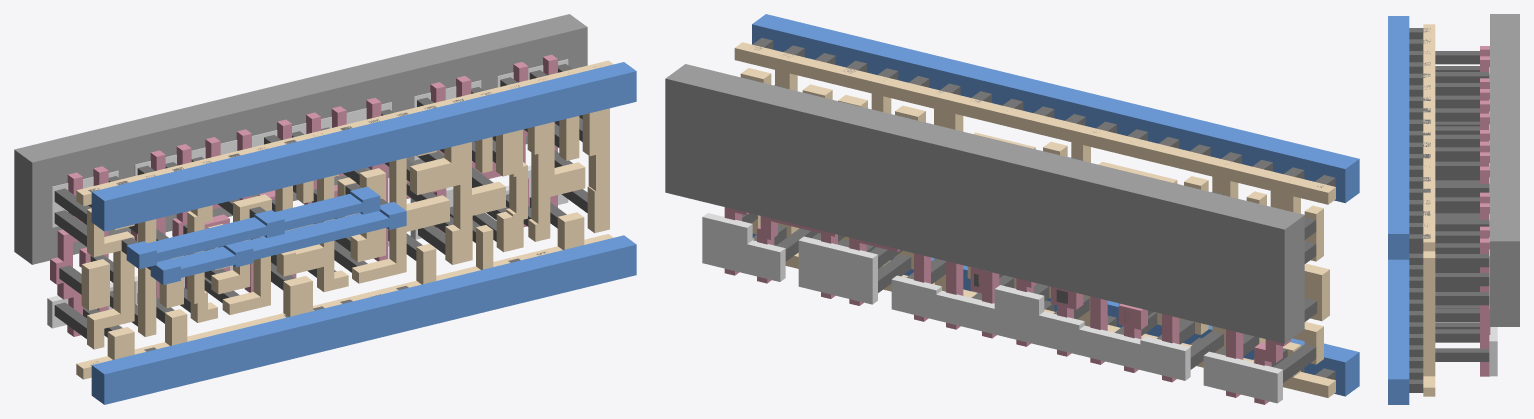
The model's file is sky130_fd_sc_hd__dfxbp_1.gds.gltf.
3 renders of one model, left to right at view 1: azimuth 30°, elevation 25°; view 2: azimuth 150°, elevation 25°; view 3: azimuth 270°, elevation 25°, orthographic. The views are drawn at different scales.
Parts seen in each view (by area): view 1: sky130_fd_sc_hd__dfxbp_1_met1, sky130_fd_sc_hd__dfxbp_1_li1, sky130_fd_sc_hd__dfxbp_1_nwell, sky130_fd_sc_hd__dfxbp_1_licon, sky130_fd_sc_hd__dfxbp_1_poly, sky130_fd_sc_hd__dfxbp_1_diff, sky130_fd_sc_hd__dfxbp_1_mcon; view 2: sky130_fd_sc_hd__dfxbp_1_nwell, sky130_fd_sc_hd__dfxbp_1_li1, sky130_fd_sc_hd__dfxbp_1_diff, sky130_fd_sc_hd__dfxbp_1_met1, sky130_fd_sc_hd__dfxbp_1_poly, sky130_fd_sc_hd__dfxbp_1_licon, sky130_fd_sc_hd__dfxbp_1_mcon; view 3: sky130_fd_sc_hd__dfxbp_1_licon, sky130_fd_sc_hd__dfxbp_1_nwell, sky130_fd_sc_hd__dfxbp_1_met1, sky130_fd_sc_hd__dfxbp_1_mcon, sky130_fd_sc_hd__dfxbp_1_li1, sky130_fd_sc_hd__dfxbp_1_poly, sky130_fd_sc_hd__dfxbp_1_diff.
Part boxes in pixels (box(x1,y1,x2,y2)): sky130_fd_sc_hd__dfxbp_1_met1: box(91, 62, 636, 404); sky130_fd_sc_hd__dfxbp_1_li1: box(76, 60, 613, 379); sky130_fd_sc_hd__dfxbp_1_nwell: box(14, 14, 587, 264); sky130_fd_sc_hd__dfxbp_1_licon: box(54, 63, 587, 338); sky130_fd_sc_hd__dfxbp_1_poly: box(50, 54, 557, 336); sky130_fd_sc_hd__dfxbp_1_diff: box(47, 59, 568, 328); sky130_fd_sc_hd__dfxbp_1_mcon: box(88, 78, 545, 365); sky130_fd_sc_hd__dfxbp_1_nwell: box(665, 64, 1304, 343); sky130_fd_sc_hd__dfxbp_1_li1: box(734, 42, 1335, 397); sky130_fd_sc_hd__dfxbp_1_diff: box(702, 213, 1282, 403); sky130_fd_sc_hd__dfxbp_1_met1: box(752, 14, 1359, 396); sky130_fd_sc_hd__dfxbp_1_poly: box(724, 207, 1290, 404); sky130_fd_sc_hd__dfxbp_1_licon: box(742, 78, 1317, 382); sky130_fd_sc_hd__dfxbp_1_mcon: box(752, 38, 1335, 379); sky130_fd_sc_hd__dfxbp_1_licon: box(1435, 51, 1489, 361); sky130_fd_sc_hd__dfxbp_1_nwell: box(1490, 14, 1519, 326); sky130_fd_sc_hd__dfxbp_1_met1: box(1388, 16, 1409, 404); sky130_fd_sc_hd__dfxbp_1_mcon: box(1409, 28, 1430, 392); sky130_fd_sc_hd__dfxbp_1_li1: box(1423, 24, 1435, 396); sky130_fd_sc_hd__dfxbp_1_poly: box(1480, 46, 1490, 376); sky130_fd_sc_hd__dfxbp_1_diff: box(1489, 67, 1497, 376).
Bounding box in the file's own units: 9.12 × 3.2 × 2.24.
